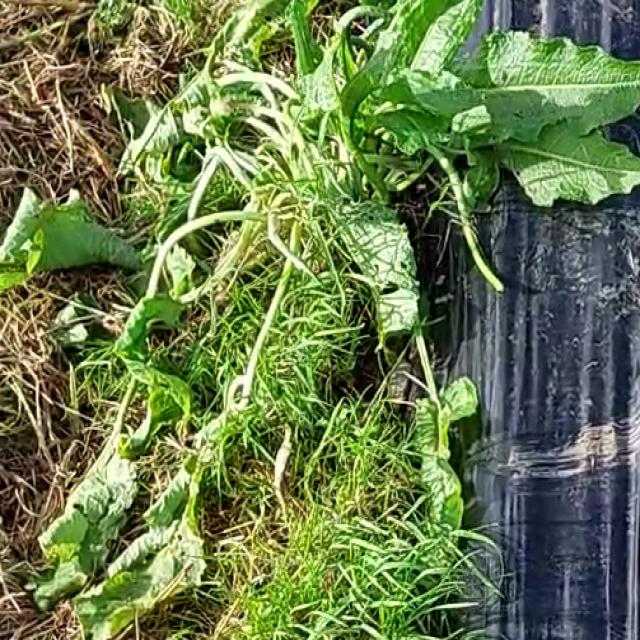organic waste: (137, 2, 640, 280), (72, 237, 302, 640), (0, 151, 187, 311)
